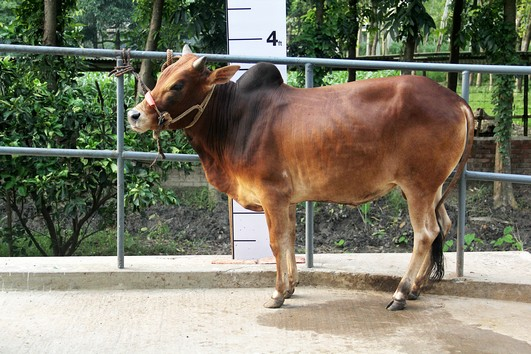cow: (121, 41, 481, 313)
